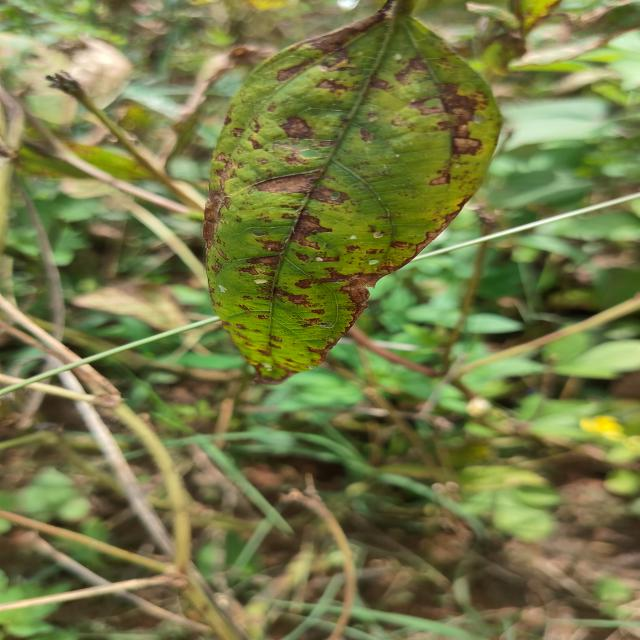Black gram_leaf spot: (203, 0, 501, 382)
